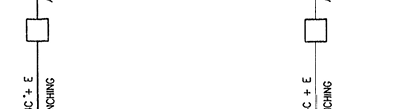Cable Termination Box: (17, 10, 64, 50), (293, 13, 344, 49)
